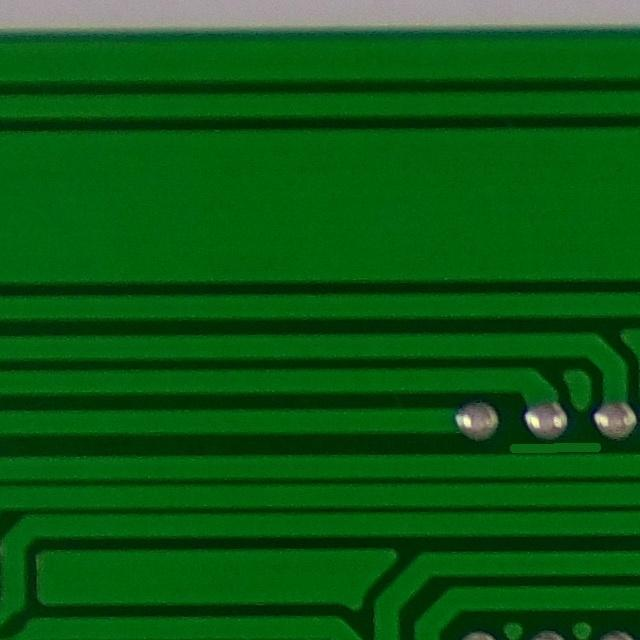spurious_copper: (496, 422, 609, 464)
